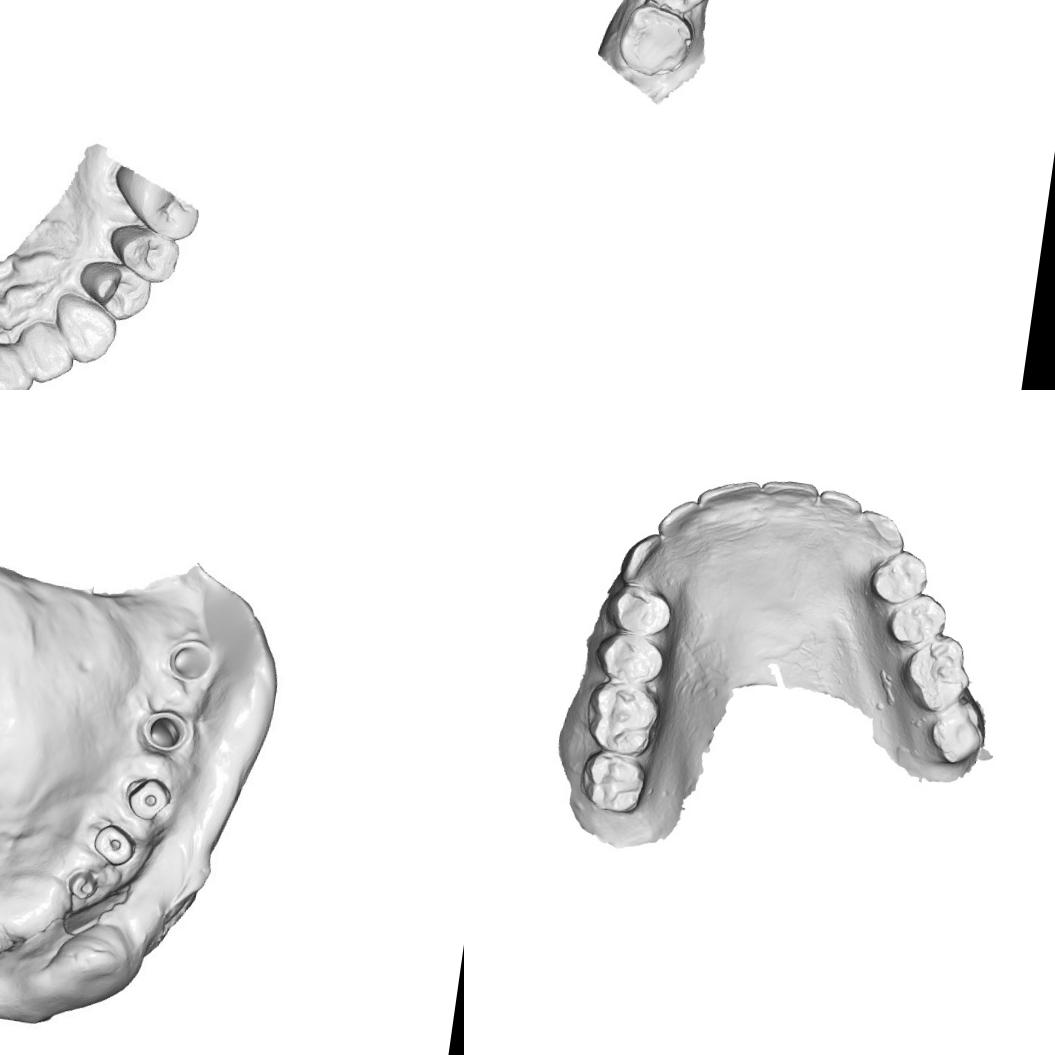canine: (48, 294, 122, 368), (616, 528, 673, 592), (852, 506, 909, 563)
implant: (123, 772, 172, 829), (141, 706, 196, 756), (90, 820, 138, 872)
incisor: (20, 323, 78, 389), (695, 473, 762, 530), (754, 473, 822, 527), (654, 494, 704, 552), (814, 486, 866, 528), (0, 344, 41, 390)
molar: (896, 627, 978, 716), (580, 675, 664, 758), (614, 0, 699, 82), (574, 744, 652, 819), (919, 698, 991, 772), (635, 0, 724, 18)
premolar: (592, 626, 668, 688), (600, 580, 678, 640), (882, 587, 952, 651), (82, 258, 154, 320), (865, 544, 934, 608), (114, 224, 184, 282)
